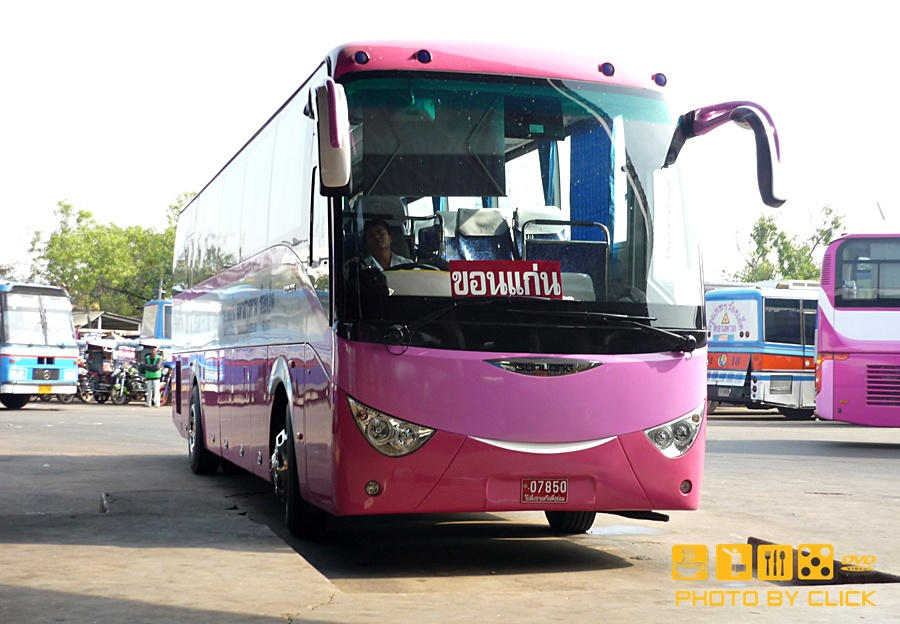bus: (168, 39, 701, 537)
